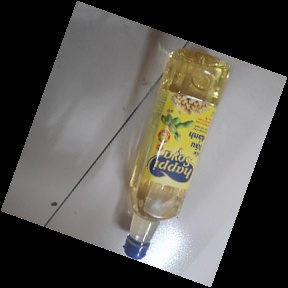Happy Soya: (122, 48, 232, 259)
